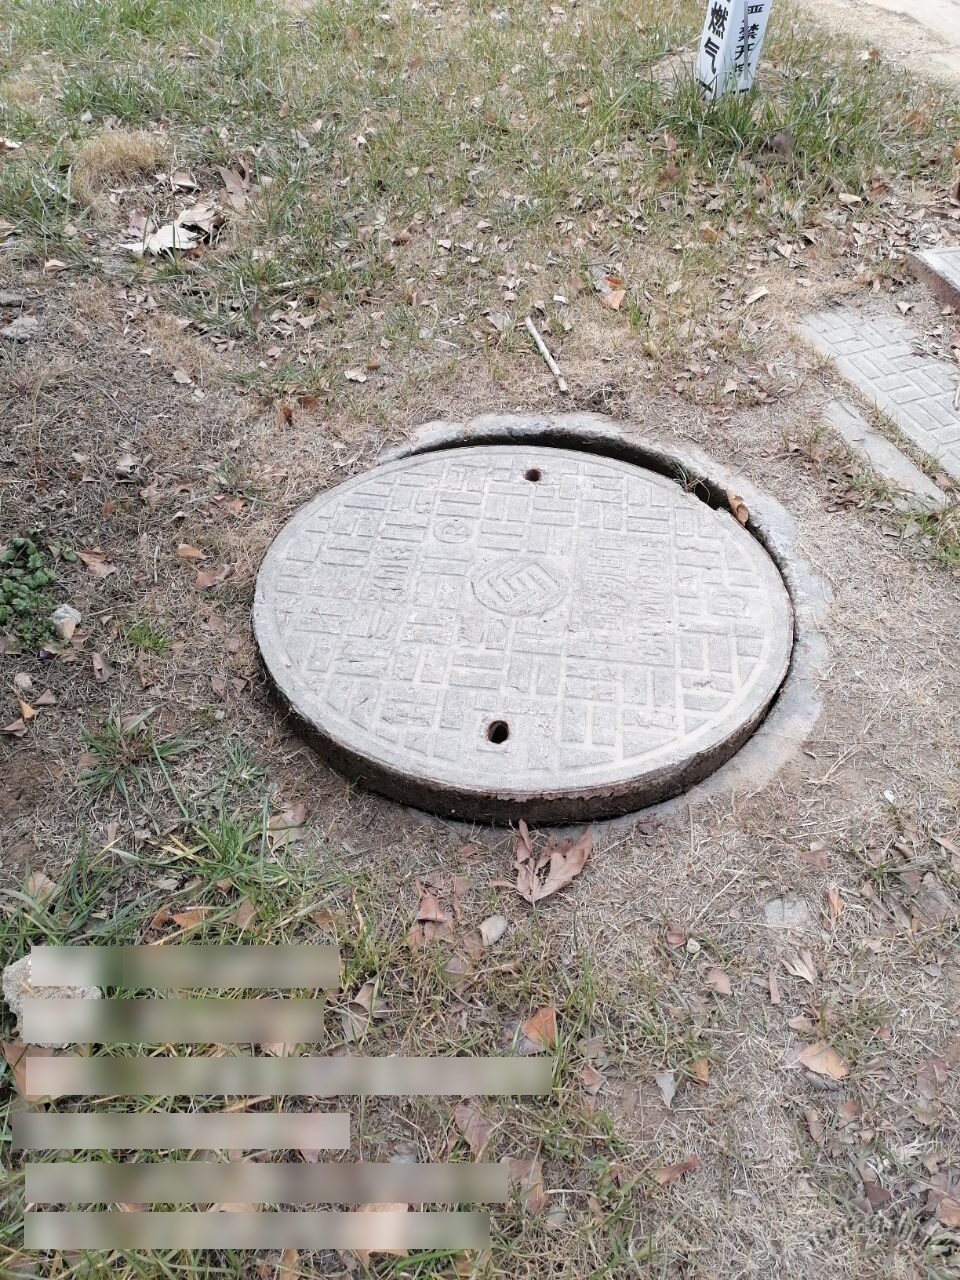uncovered: (254, 410, 832, 825)
